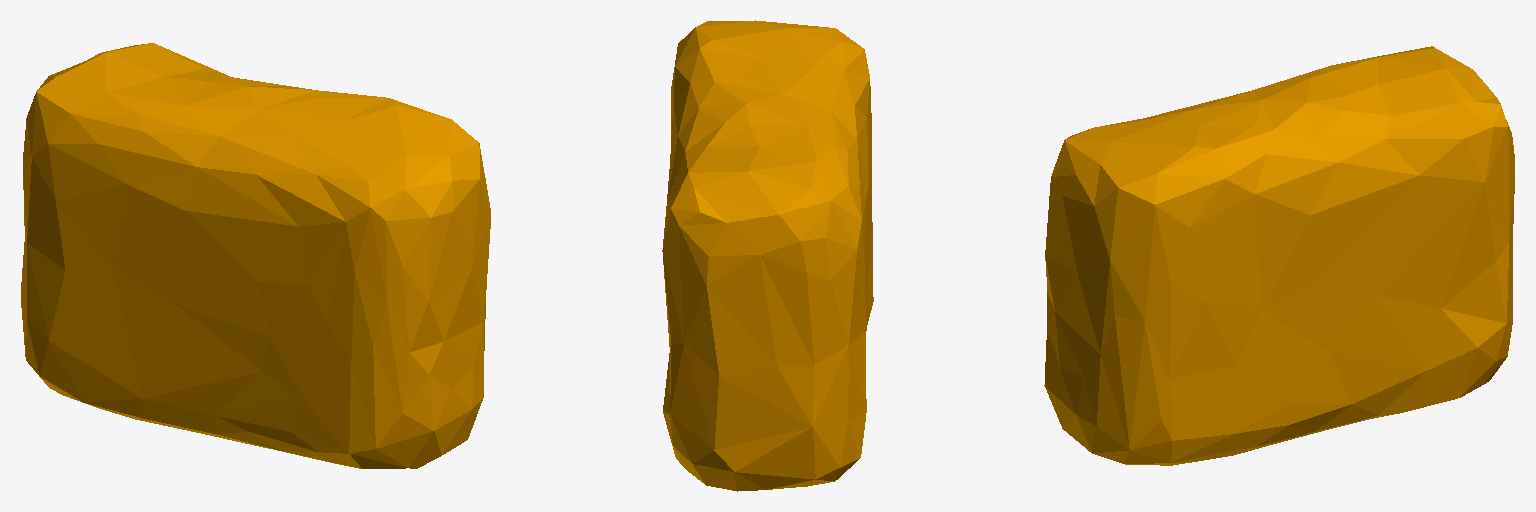
robot.urdf — dove_beauty_cream_bar:
<?xml version="1.0"?>
<robot name="dove_beauty_cream_bar">
  <link name="base_link">
    <contact>
      <lateral_friction value="1.0"/>
      <rolling_friction value="0.0"/>
      <contact_cfm value="0.0"/>
      <contact_erp value="1.0"/>
    </contact>
    <inertial>
      <mass value="0.176910304784"/>
      <inertia ixx="1" ixy="0" ixz="0" iyy="1" iyz="0" izz="1"/>
    </inertial>
    <visual>
      <geometry>
        <mesh filename="dove_beauty_cream_bar_visual.obj"/>
      </geometry>
    </visual>
    <collision>
      <geometry>
        <mesh filename="dove_beauty_cream_bar_collision.obj"/>
      </geometry>
    </collision>
  </link>
</robot>

--- Facts derived from the render (not from the file) ---
Views: 3 orthographic renders of the robot side by side, from view 1: azimuth 30°, elevation 25°; view 2: azimuth 150°, elevation 25°; view 3: azimuth 270°, elevation 25°.
Robot: dove_beauty_cream_bar — 1 links, 0 joints (none); root link base_link; default pose: every joint at zero.
Visible links, largest first — view 1: base_link; view 2: base_link; view 3: base_link.
Boxes of the visible links, x1,y1,x2,y2 form: base_link: (21,43,490,468); base_link: (662,20,873,491); base_link: (1044,46,1514,465).
Bounding box of the posed robot: 0.0698 × 0.0924 × 0.07 m (x, y, z).
1 mesh visuals loaded from 1 distinct referenced files (1 OBJ).